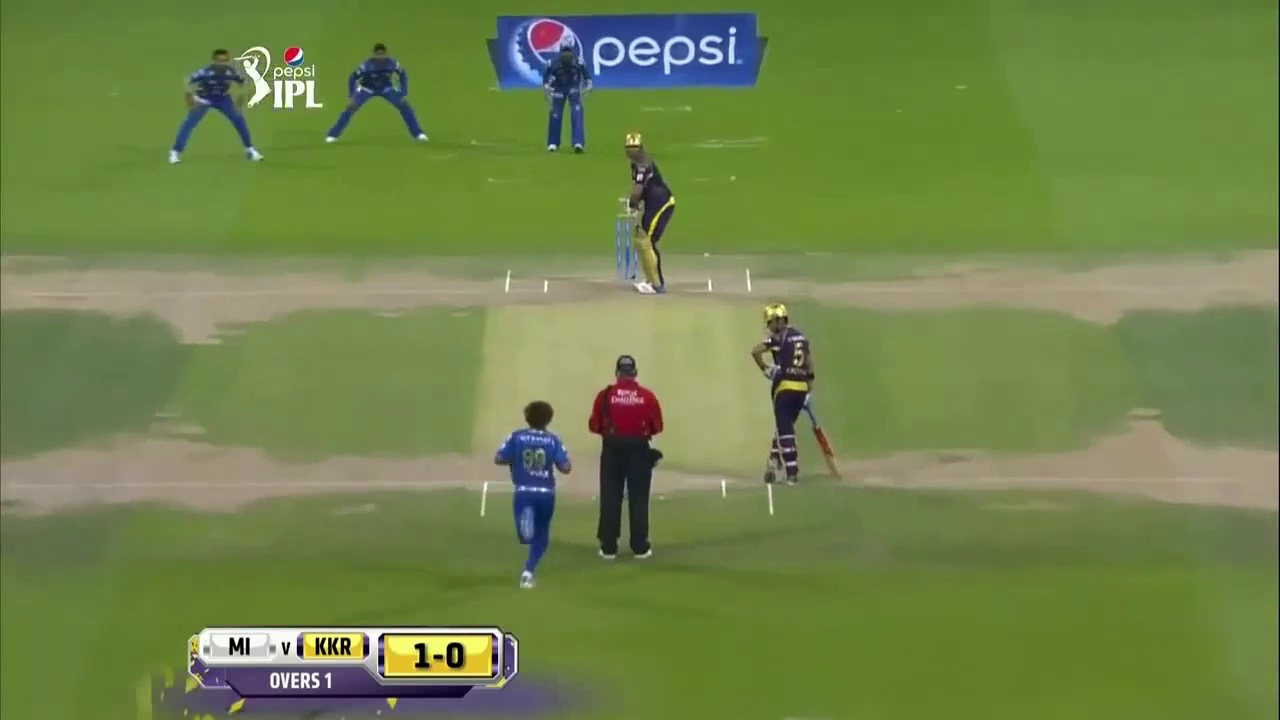bat: (804, 406, 849, 481)
pitch: (461, 255, 805, 528)
